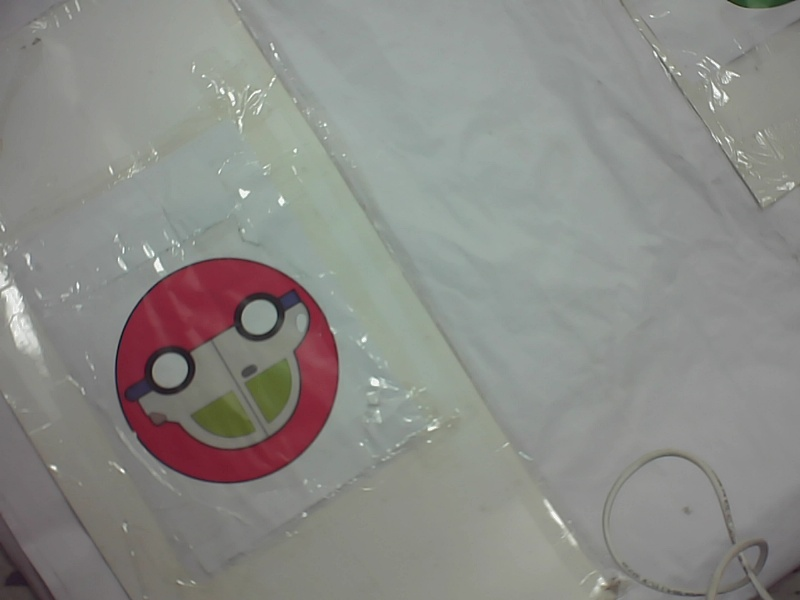areaC: (97, 261, 354, 484)
